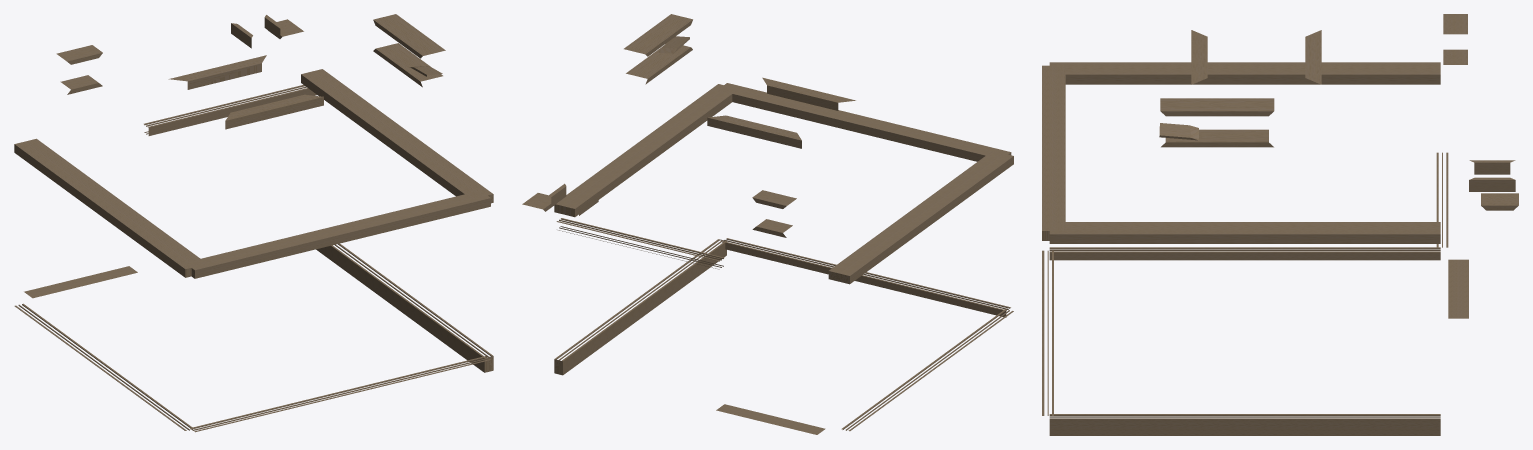
File: kd_stage_135b75_4_14_bounded.glb
3 views of the same model, side by side, from view 1: azimuth 30°, elevation 25°; view 2: azimuth 150°, elevation 25°; view 3: azimuth 270°, elevation 25° (orthographic). The views are drawn at different scales.
Parts seen in each view (by area): view 1: kd_stage_135b75_4_14_bounded; view 2: kd_stage_135b75_4_14_bounded; view 3: kd_stage_135b75_4_14_bounded.
Boxes of the visible parts, x1=… form: kd_stage_135b75_4_14_bounded: x1=14, y1=14, x2=493, y2=432; kd_stage_135b75_4_14_bounded: x1=522, y1=14, x2=1013, y2=434; kd_stage_135b75_4_14_bounded: x1=1042, y1=14, x2=1518, y2=435.
Bounding box in the file's own units: 3.75 × 3.3 × 4.39.
1 material, 1 textured.
